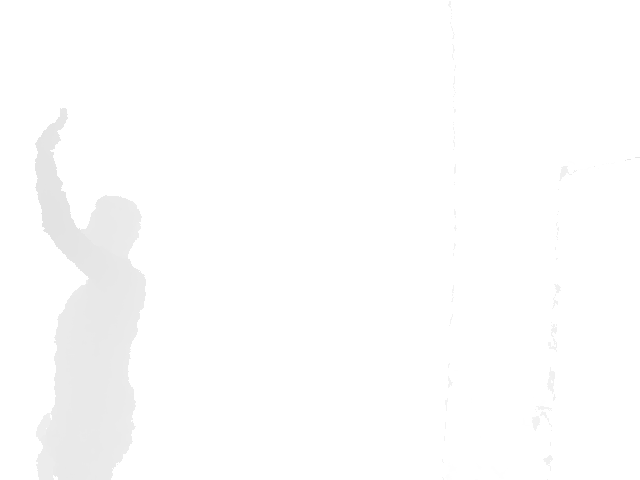hand: (33, 106, 69, 151)
head: (81, 193, 143, 262)
person: (33, 106, 147, 480)
